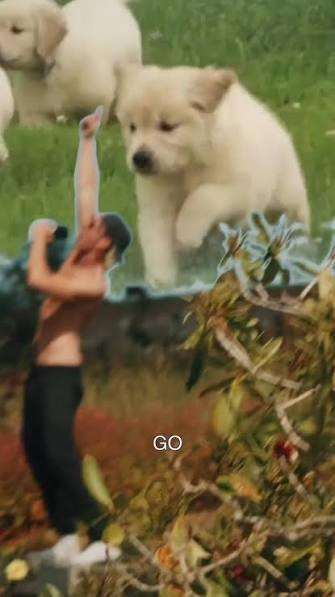non-dog: (23, 105, 133, 572)
puppy-dog: (111, 60, 311, 290), (0, 0, 142, 128)
